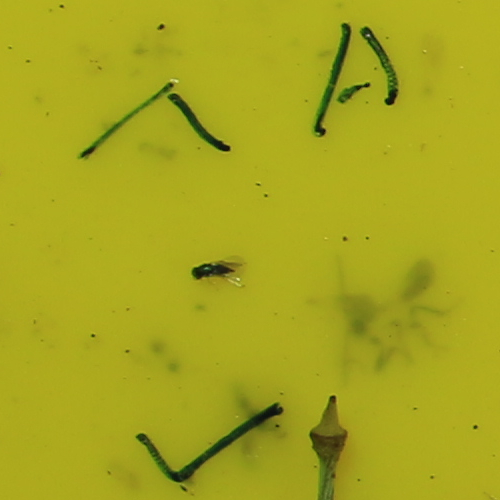Psyllaephagus: (185, 261, 238, 281)
